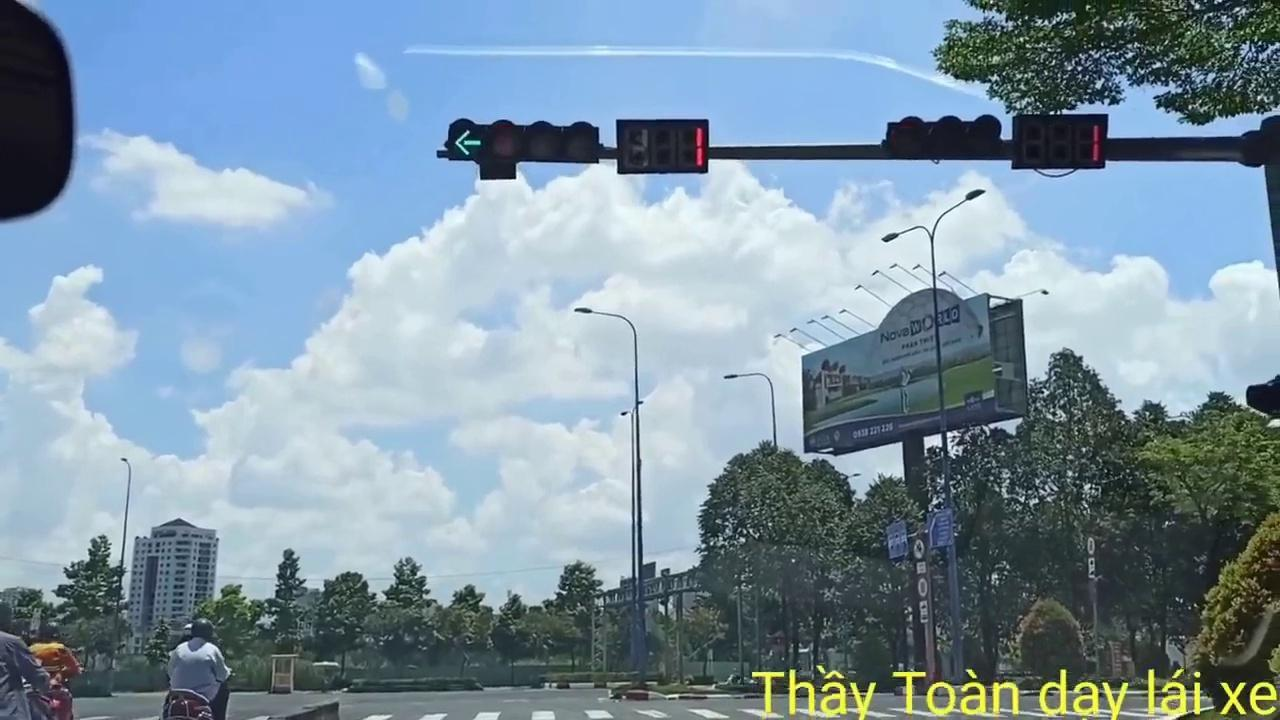Biển phụ: (918, 600, 930, 624), (1087, 556, 1098, 579), (915, 561, 927, 575)
Chỉ hướng đường: (925, 510, 955, 548)
Cấm xe máy: (912, 538, 927, 561)
Làn đường cho từng xe: (883, 520, 911, 559)
